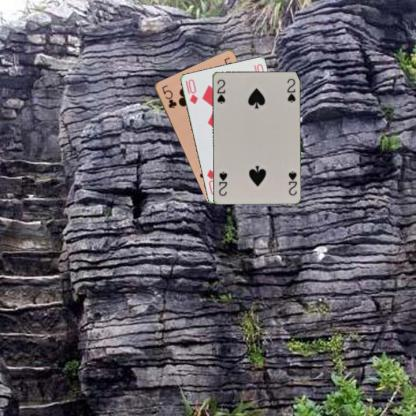10d: (185, 76, 199, 105)
2s: (286, 168, 298, 197), (214, 77, 226, 104)
5c: (159, 82, 178, 110)
